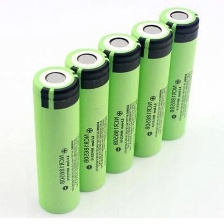battery: (29, 63, 84, 216), (62, 46, 111, 196), (96, 32, 143, 175), (153, 5, 201, 142), (128, 17, 174, 159)
